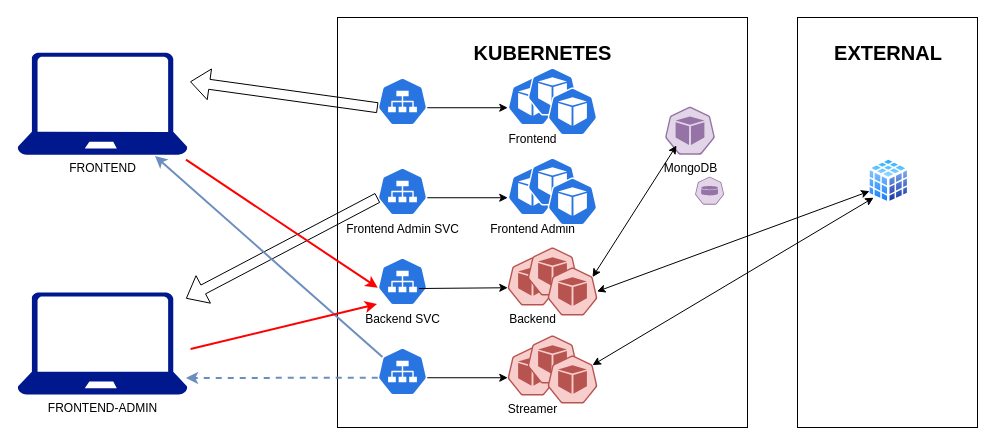
Image size: 995x445. Some labels were removed from this diagram. Here are the shapes that lost their labels. From the top down, the box of each, then its label:
(376, 76, 428, 126): Frontend SVC
(694, 176, 724, 205): MongoDB Volume
(867, 157, 910, 204): S3 STORAGE
(376, 346, 428, 396): Streamer SVC
